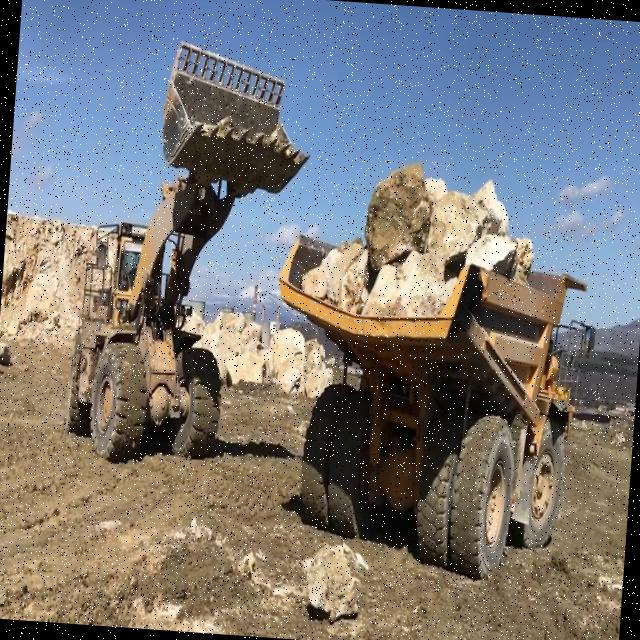Dump Truck: (257, 238, 600, 586)
Loader: (58, 34, 318, 468)
